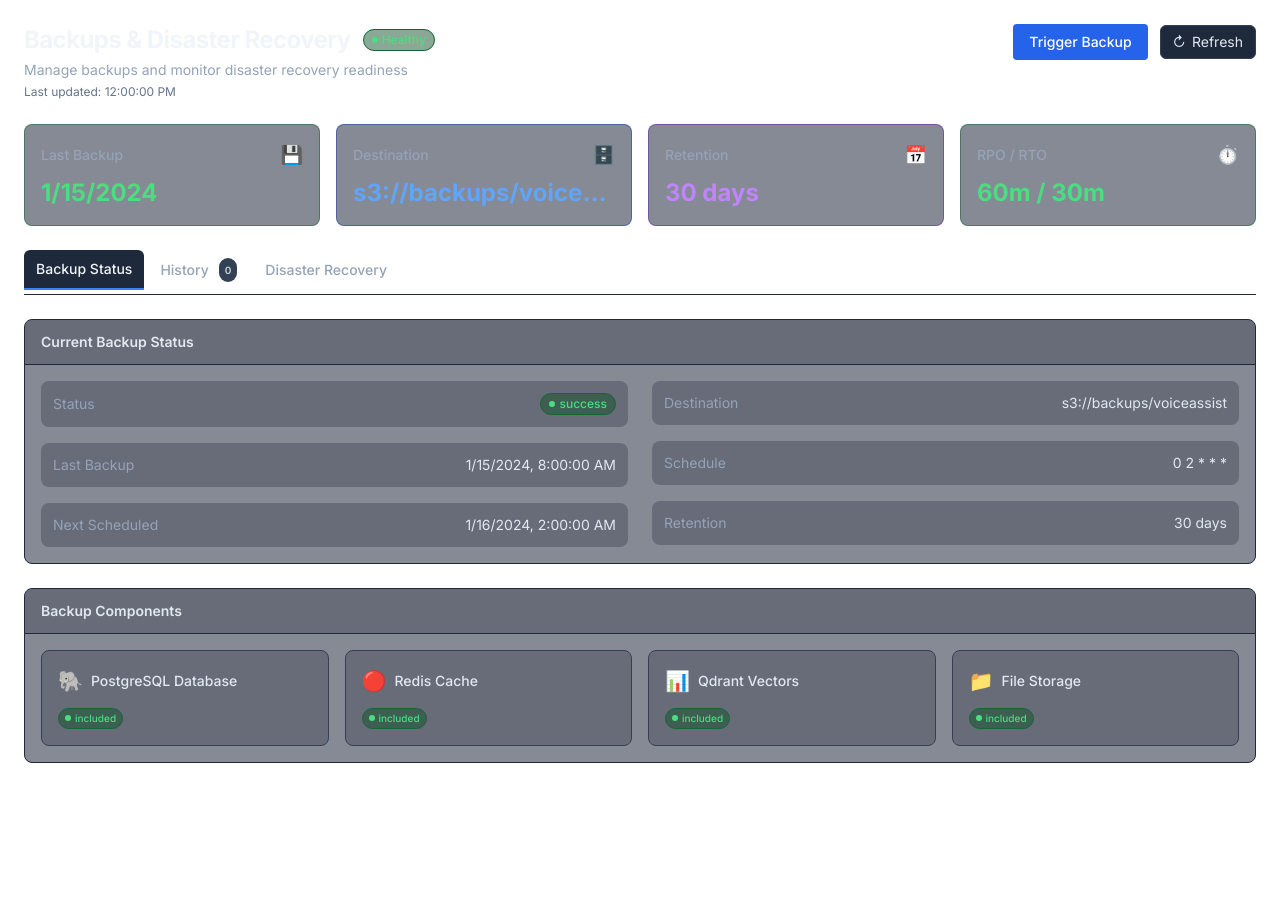
Test: BackupsPage › history tab › should show empty state when no history
Step 1. Click the text "History" → click(185, 270), box [160,260,209,280]
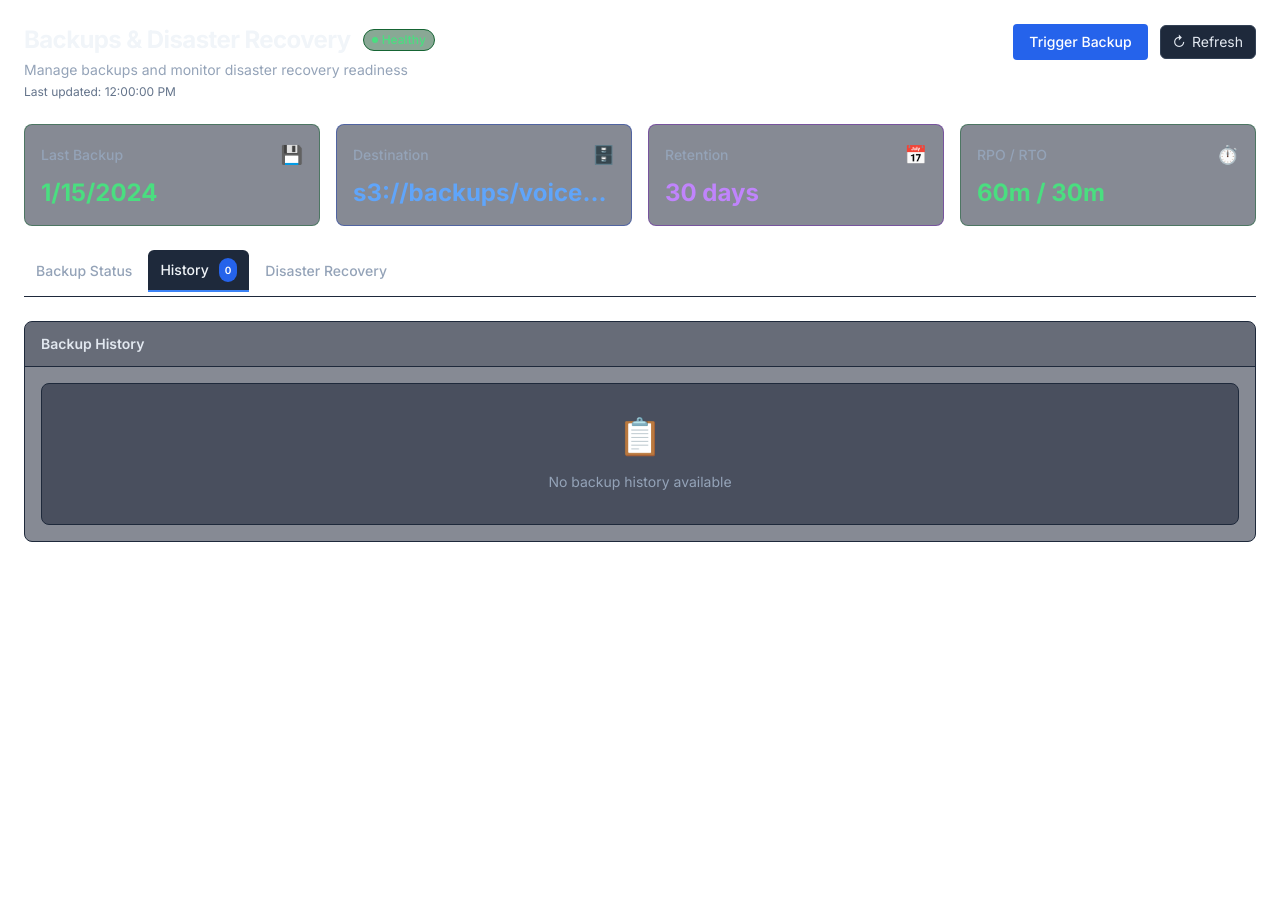
Result: the text "No backup history available" is shown at [548,473,732,490]
